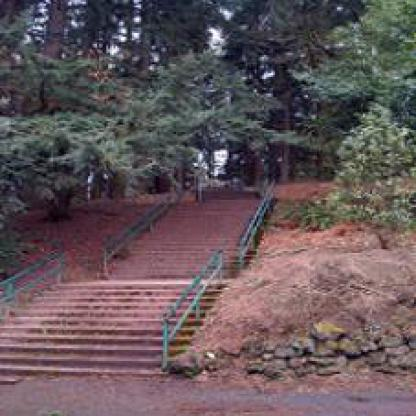stair_up: (3, 258, 200, 380)
